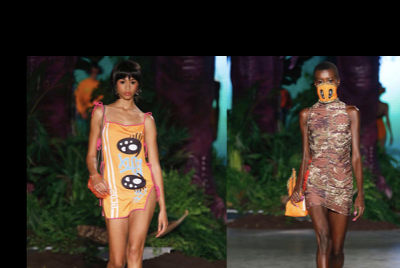with_mask: (314, 76, 337, 99)
without_mask: (115, 76, 137, 99)
